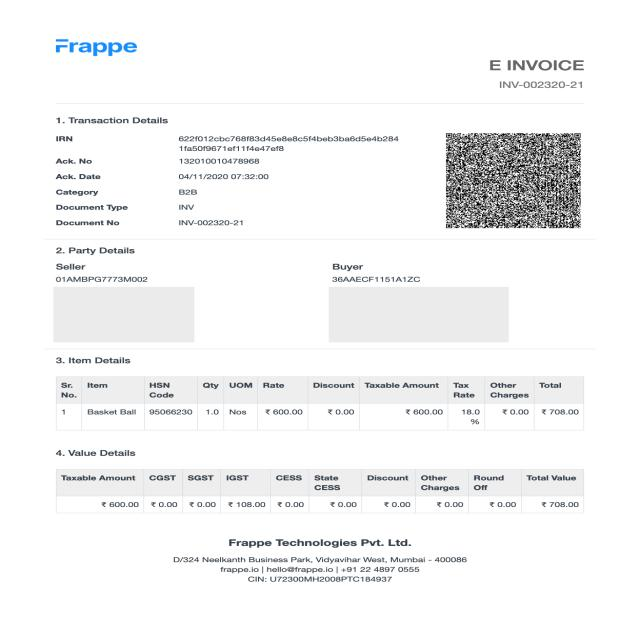QRCode: (434, 121, 594, 239)
